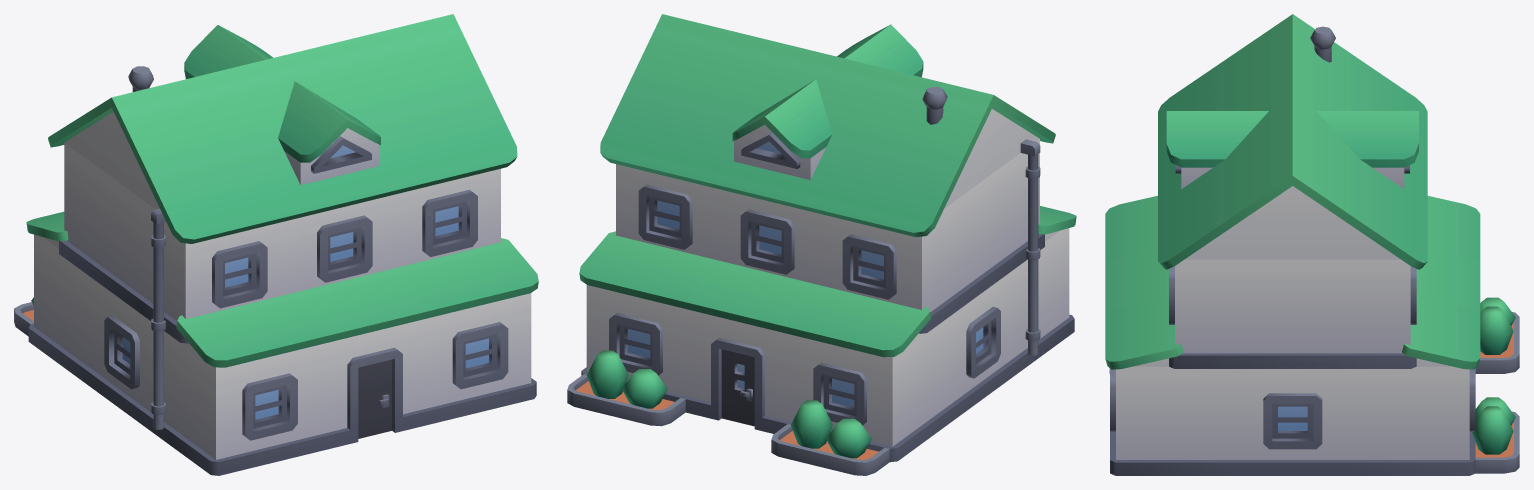
File: house-t.glb
The picture shows the model from 3 angles, left to right: view 1: azimuth 30°, elevation 25°; view 2: azimuth 150°, elevation 25°; view 3: azimuth 270°, elevation 25°; orthographic projection. The views are drawn at different scales.
Parts seen in each view (by area): view 1: building-type-t; view 2: building-type-t; view 3: building-type-t.
Boxes of the visible parts, x1=… form: building-type-t: x1=14, y1=14, x2=538, y2=475; building-type-t: x1=567, y1=14, x2=1076, y2=475; building-type-t: x1=1105, y1=14, x2=1519, y2=475.
Bounding box in the file's own units: 1.31 × 1.16 × 1.41.
1 material, 1 textured.
